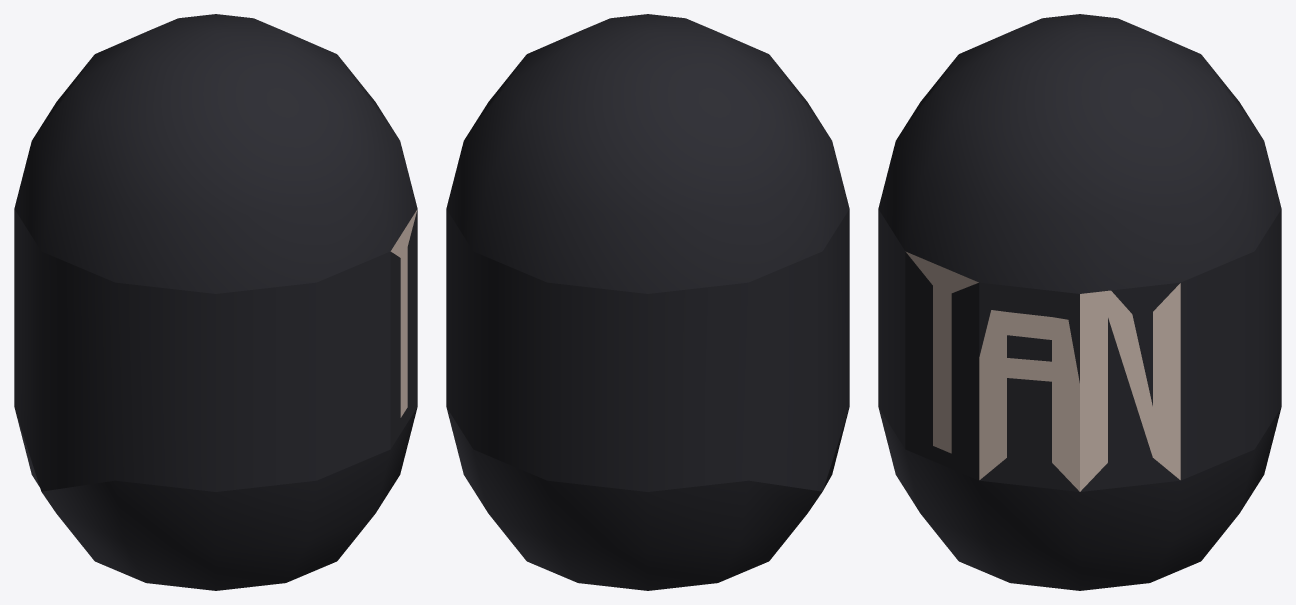
The model's file is Tan Tank.FBX.
The picture shows the model from 3 angles, left to right: view 1: azimuth 30°, elevation 25°; view 2: azimuth 150°, elevation 25°; view 3: azimuth 270°, elevation 25°; orthographic projection.
Visible parts, largest first — view 1: Tan; view 2: Tan; view 3: Tan.
Boxes of the visible parts, x1,y1,x2,y2 form: Tan: (14, 14, 417, 590); Tan: (446, 14, 849, 590); Tan: (878, 14, 1281, 590).
Size of the model in its own units: 164 by 225 by 164.
